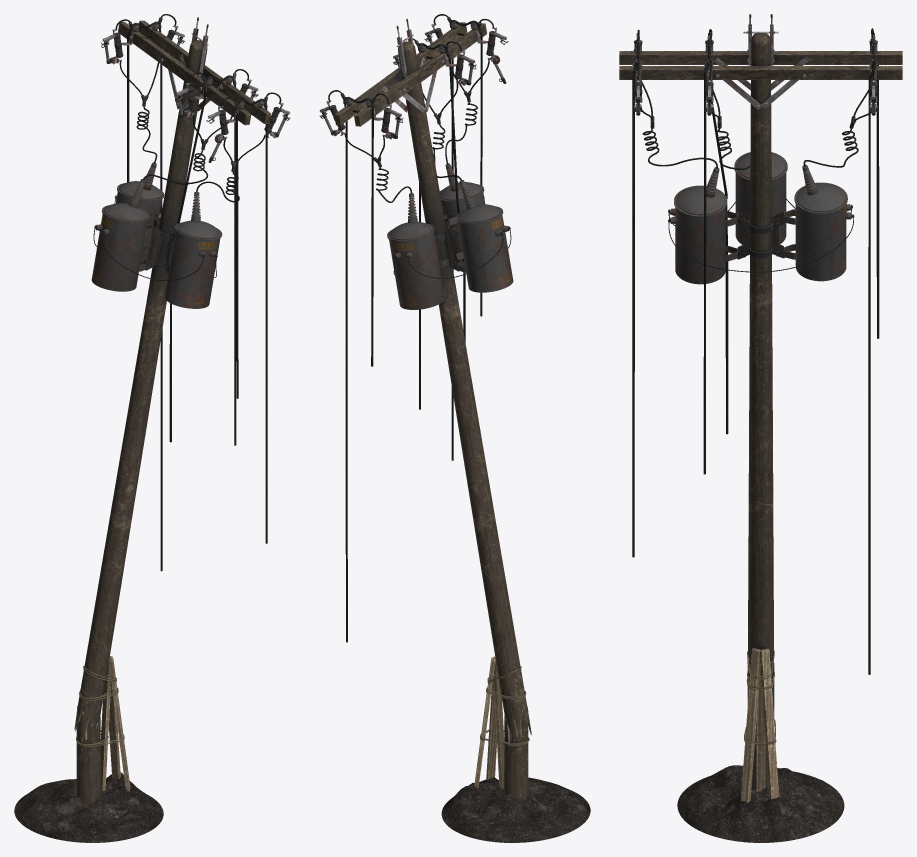
The model's file is broken_utility_pole.glb.
The picture shows the model from 3 angles, left to right: view 1: azimuth 30°, elevation 25°; view 2: azimuth 150°, elevation 25°; view 3: azimuth 270°, elevation 25°; orthographic projection. The views are drawn at different scales.
Visible parts, largest first — view 1: UtilityPoleTop_39, GroundDirt_11, Transformer_02_32, Transformer_01_31, MainCable_A_22, CrossBeams_01_0, UtilityPoleBottom_38, MainCable_B_23, MainCable_C_24, CrossBeams_02_1, Transformer_03_33, SupportBoard_A_28 (+2 smaller); view 2: UtilityPoleTop_39, GroundDirt_11, Transformer_02_32, Transformer_03_33, MainCable_C_24, CrossBeams_01_0, UtilityPoleBottom_38, CrossBeams_02_1, Transformer_01_31, MainCable_A_22, MainCable_B_23, SupportBoard_A_28 (+3 smaller); view 3: UtilityPoleTop_39, GroundDirt_11, Transformer_03_33, Transformer_01_31, CrossBeams_02_1, CrossBeams_01_0, MainCable_C_24, MainCable_B_23, Transformer_02_32, MainCable_A_22, SupportBoard_B_29, SupportBoard_C_30 (+2 smaller).
Boxes of the visible parts, x1,y1,x2,y2 form: UtilityPoleTop_39: [74, 40, 207, 741]; GroundDirt_11: [14, 772, 163, 842]; Transformer_02_32: [91, 179, 162, 291]; Transformer_01_31: [164, 192, 222, 308]; MainCable_A_22: [220, 92, 281, 543]; CrossBeams_01_0: [118, 21, 251, 125]; UtilityPoleBottom_38: [76, 706, 100, 804]; MainCable_B_23: [169, 69, 248, 445]; MainCable_C_24: [115, 14, 176, 571]; CrossBeams_02_1: [138, 20, 270, 123]; Transformer_03_33: [114, 162, 164, 260]; SupportBoard_A_28: [100, 663, 110, 790]; UtilityPoleTop_39: [398, 41, 531, 746]; GroundDirt_11: [441, 777, 590, 842]; Transformer_02_32: [442, 180, 513, 292]; Transformer_03_33: [387, 193, 444, 309]; MainCable_C_24: [328, 90, 388, 642]; CrossBeams_01_0: [354, 23, 487, 126]; UtilityPoleBottom_38: [504, 707, 528, 799]; CrossBeams_02_1: [334, 22, 467, 125]; Transformer_01_31: [439, 163, 485, 261]; MainCable_A_22: [433, 14, 493, 460]; MainCable_B_23: [403, 38, 465, 409]; SupportBoard_A_28: [493, 660, 504, 788]; UtilityPoleTop_39: [747, 33, 774, 710]; GroundDirt_11: [677, 765, 844, 842]; Transformer_03_33: [771, 164, 854, 281]; Transformer_01_31: [668, 167, 750, 284]; CrossBeams_02_1: [619, 66, 902, 109]; CrossBeams_01_0: [619, 51, 902, 90]; MainCable_C_24: [868, 28, 879, 674]; MainCable_B_23: [703, 29, 728, 474]; Transformer_02_32: [734, 152, 787, 244]; MainCable_A_22: [632, 29, 639, 557]; SupportBoard_B_29: [740, 648, 760, 802]; SupportBoard_C_30: [760, 648, 779, 799].
Bounding box in the file's own units: 3.15 × 10.96 × 3.29.
3 materials, 3 textured.
